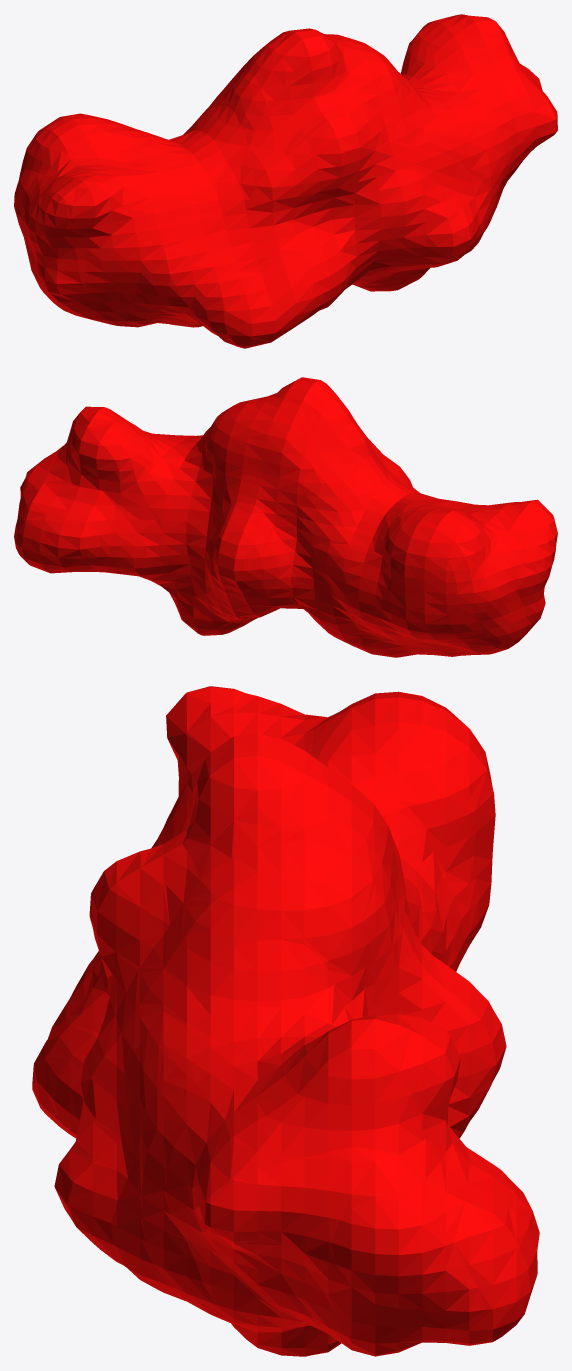
File: Similar_to_Vacuolar_protein_so_coarse.dae
The picture shows the model from 3 angles, top to bottom: view 1: azimuth 30°, elevation 25°; view 2: azimuth 150°, elevation 25°; view 3: azimuth 270°, elevation 25°; orthographic projection. The views are drawn at different scales.
Visible parts, largest first — view 1: Similar_to_Vacuolar_protein_so; view 2: Similar_to_Vacuolar_protein_so; view 3: Similar_to_Vacuolar_protein_so.
Part boxes in pixels (<box>): Similar_to_Vacuolar_protein_so: <box>14,14,557,348</box>; Similar_to_Vacuolar_protein_so: <box>14,377,557,657</box>; Similar_to_Vacuolar_protein_so: <box>32,686,539,1356</box>.
Size of the model in its own units: 96.72 by 49.62 by 43.13.
